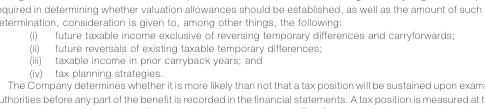table: (28, 28, 453, 77)
table column: (47, 28, 453, 77), (28, 28, 47, 77)
table row: (28, 40, 453, 53), (28, 28, 453, 40), (28, 53, 453, 65), (28, 65, 453, 77)
